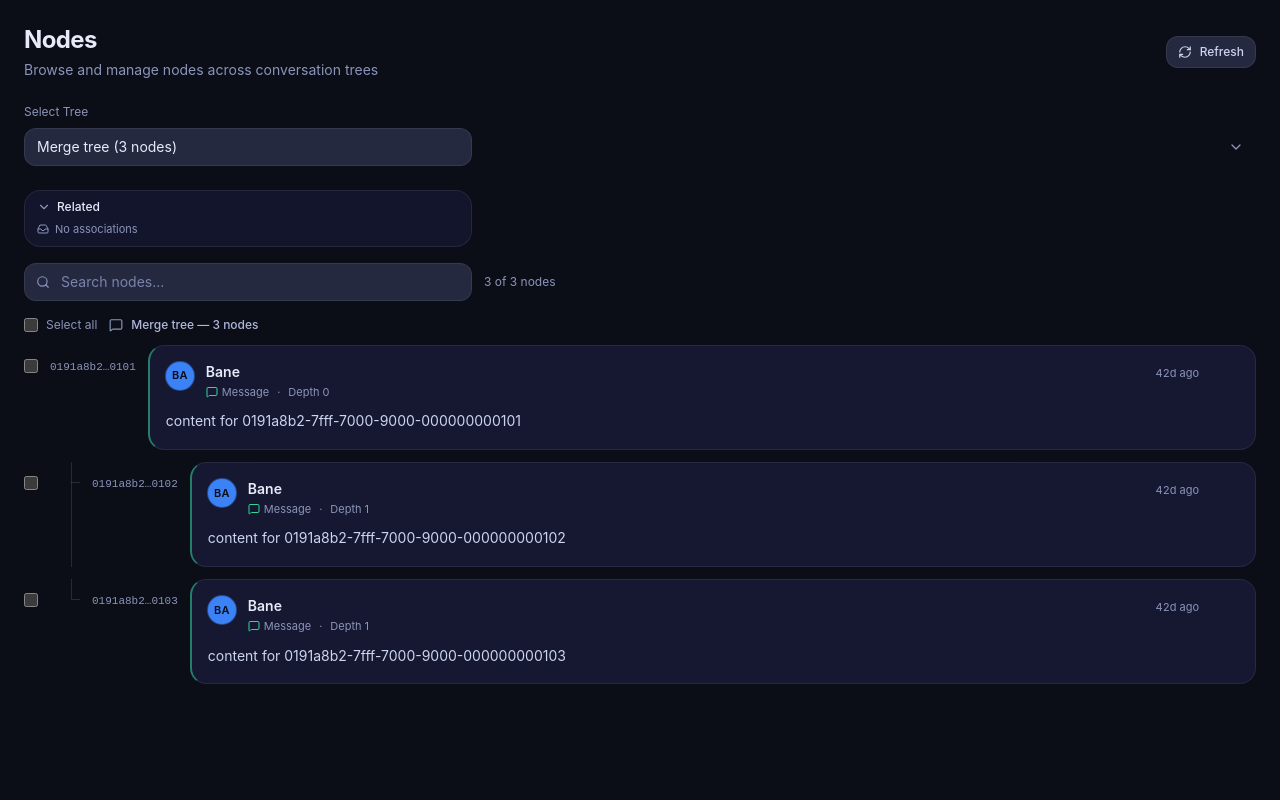
Test case: NodesPage — bulk merge › keeps the dialog and the selection when the server rejects the merge
Click the 1st checkbox with test id "node-row-checkbox".
click(31, 366)  # box [24,358,38,372]
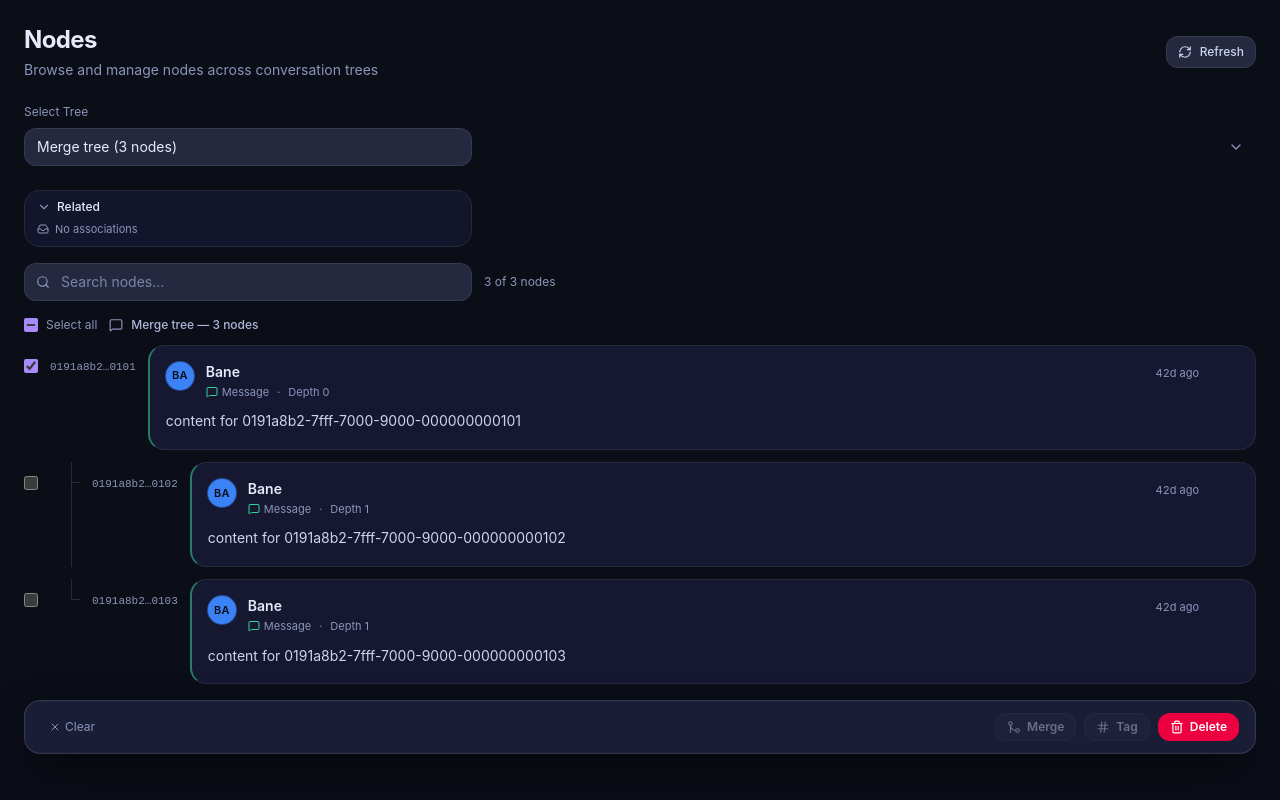
Click the 2nd checkbox with test id "node-row-checkbox".
click(31, 483)  # box [24,476,38,490]
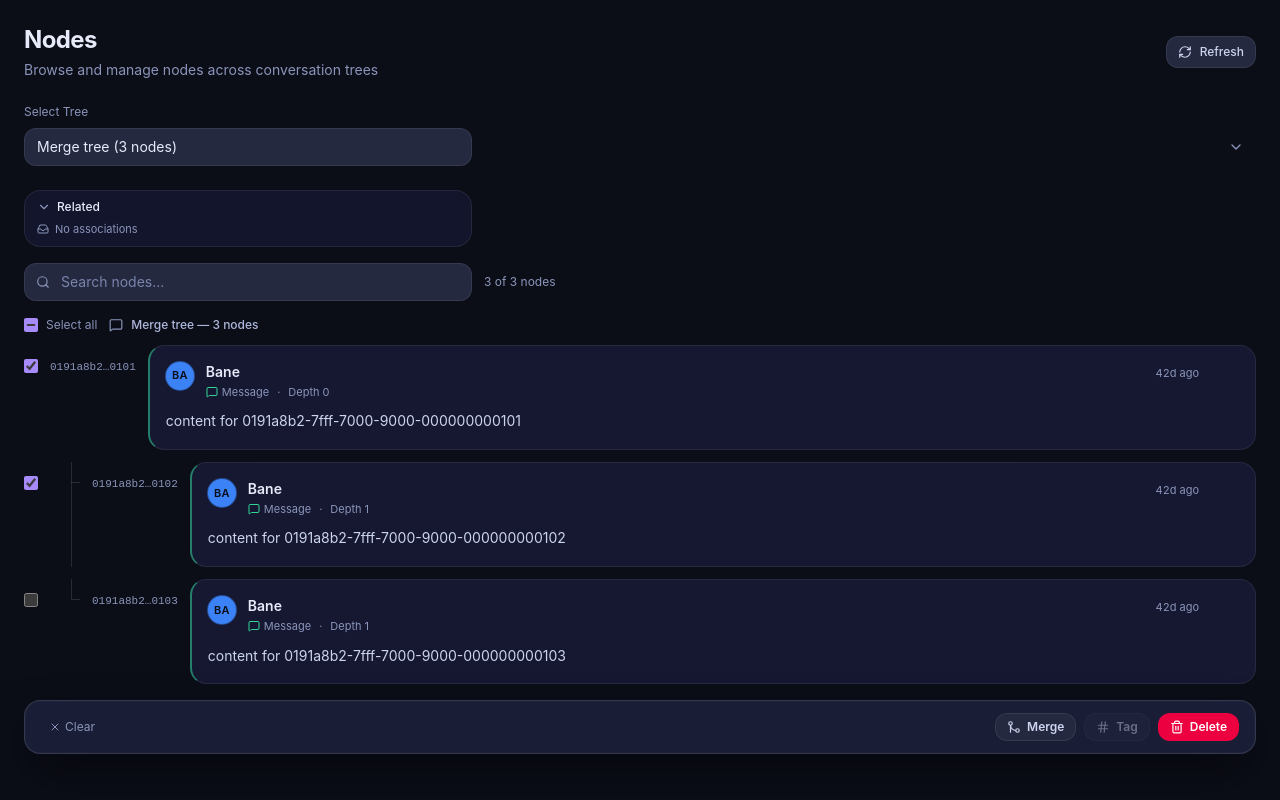
Expected: the button with test id "bulk-action-merge" is shown
Click the button with test id "bulk-action-merge".
click(1036, 727)  # box [995,713,1076,741]
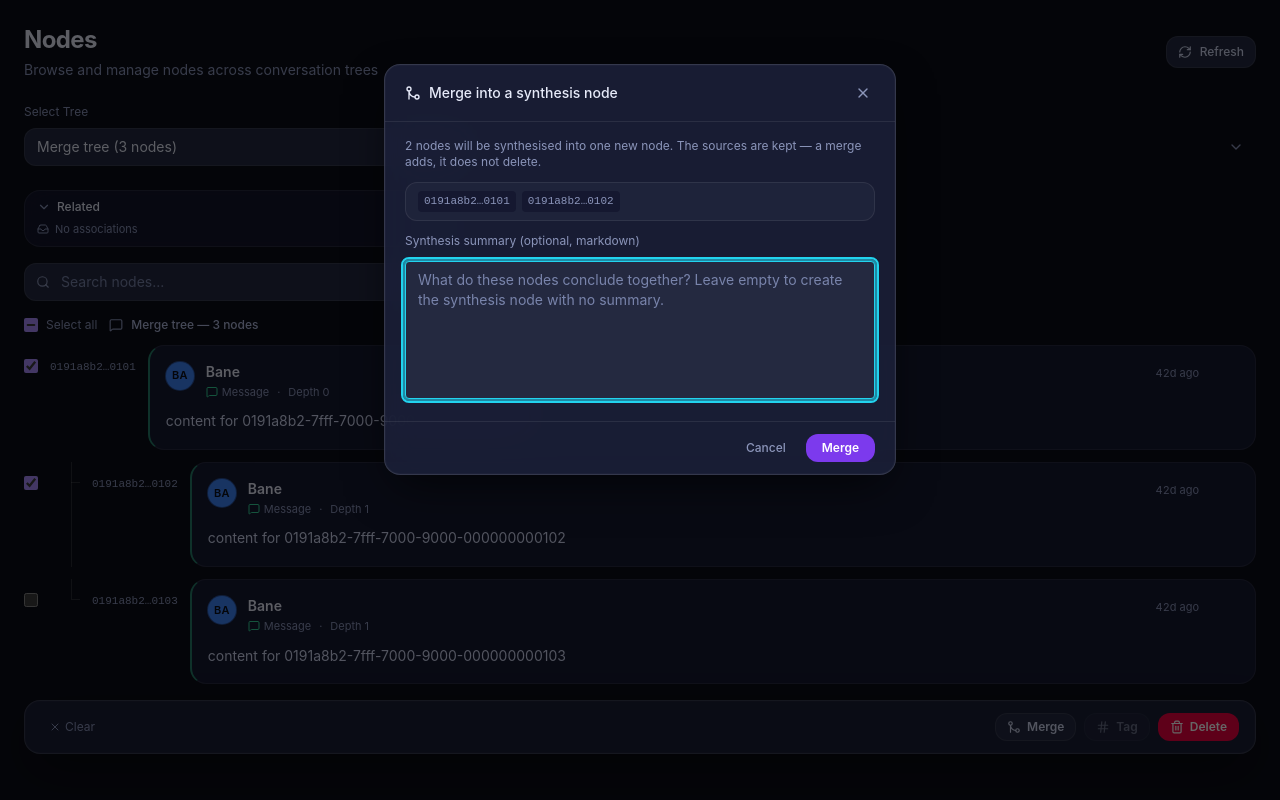
Click the button with test id "merge-submit".
click(840, 448)  # box [806,434,875,462]
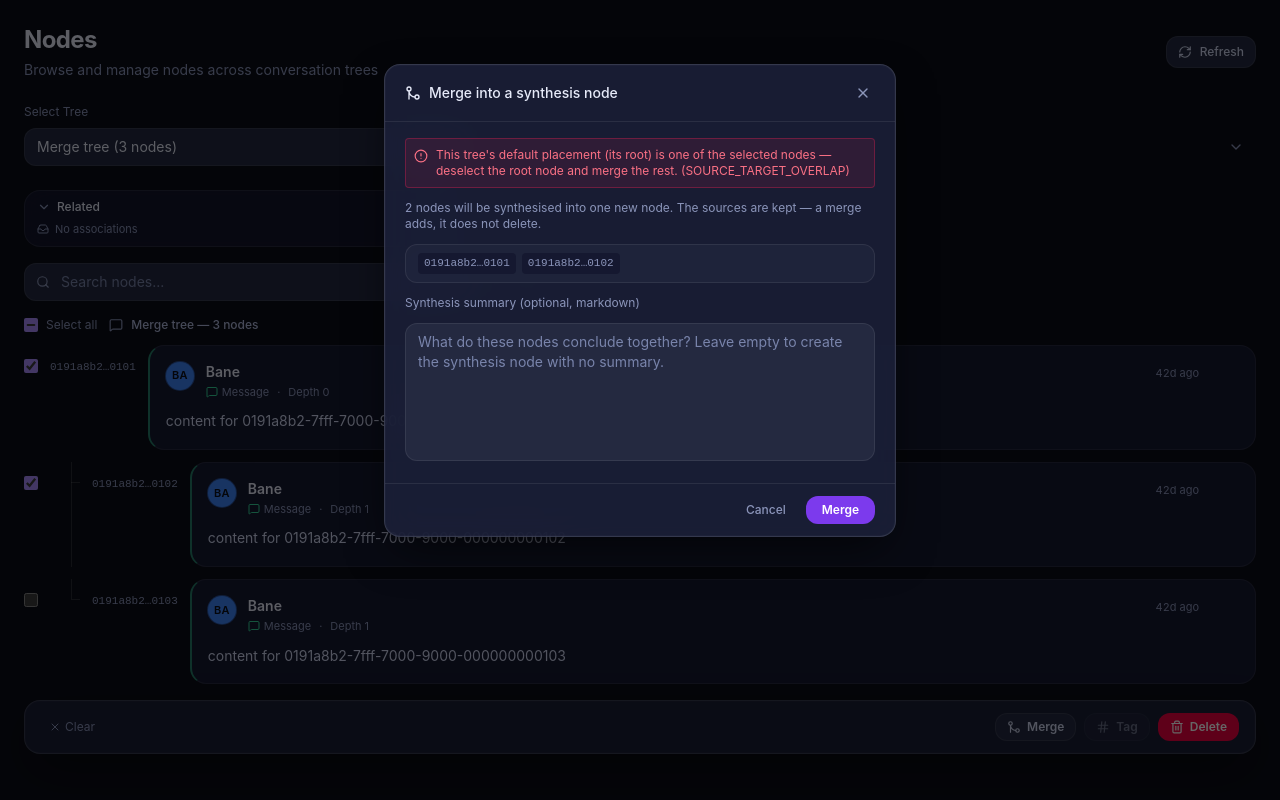
Expected: the dialog with test id "merge-dialog" is shown
Expected: the message with test id "merge-error" is shown, [405,138,875,188]
Expected: the message with test id "merge-error" shows "deselect the root node", [436,147,850,178]
